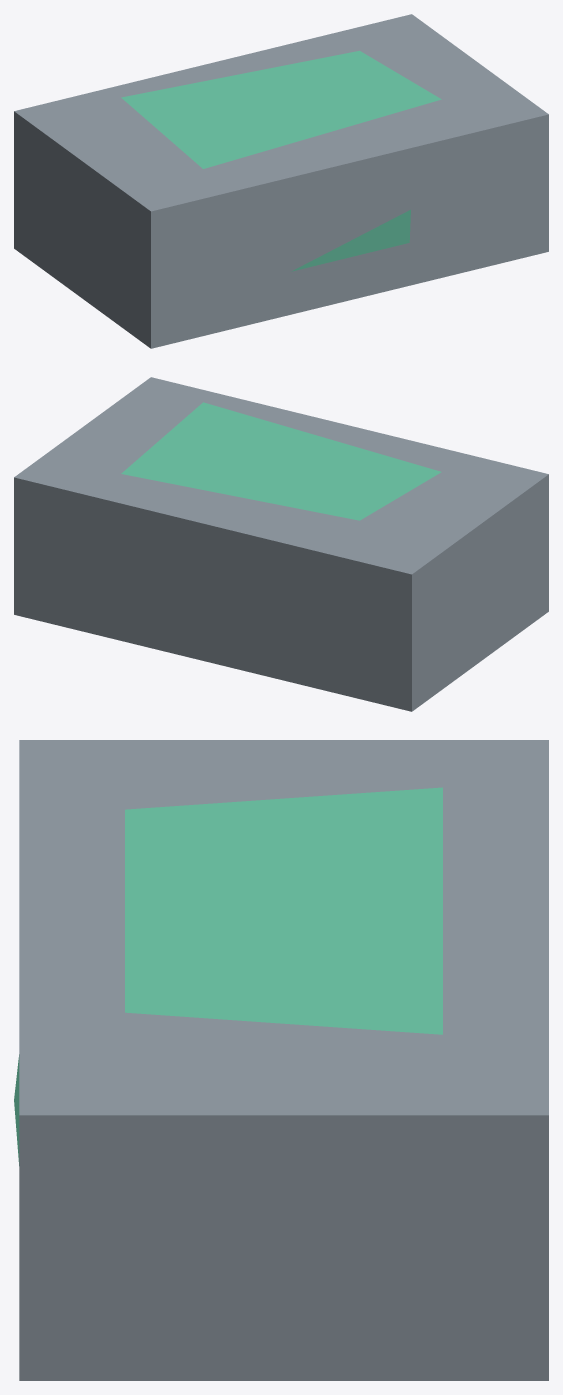
The model's file is CO_SeimonShieldCarrier_LOD1.glb.
The picture shows the model from 3 angles, top to bottom: view 1: azimuth 30°, elevation 25°; view 2: azimuth 150°, elevation 25°; view 3: azimuth 270°, elevation 25°; orthographic projection. The views are drawn at different scales.
Visible parts, largest first — view 1: EntranceGate; view 2: EntranceGate; view 3: EntranceGate.
Boxes of the visible parts, box(x1,y1,x2,y2) form: EntranceGate: box(14, 14, 548, 348); EntranceGate: box(14, 377, 548, 711); EntranceGate: box(14, 740, 548, 1380).
Size of the model in its own units: 570 by 208 by 343.
